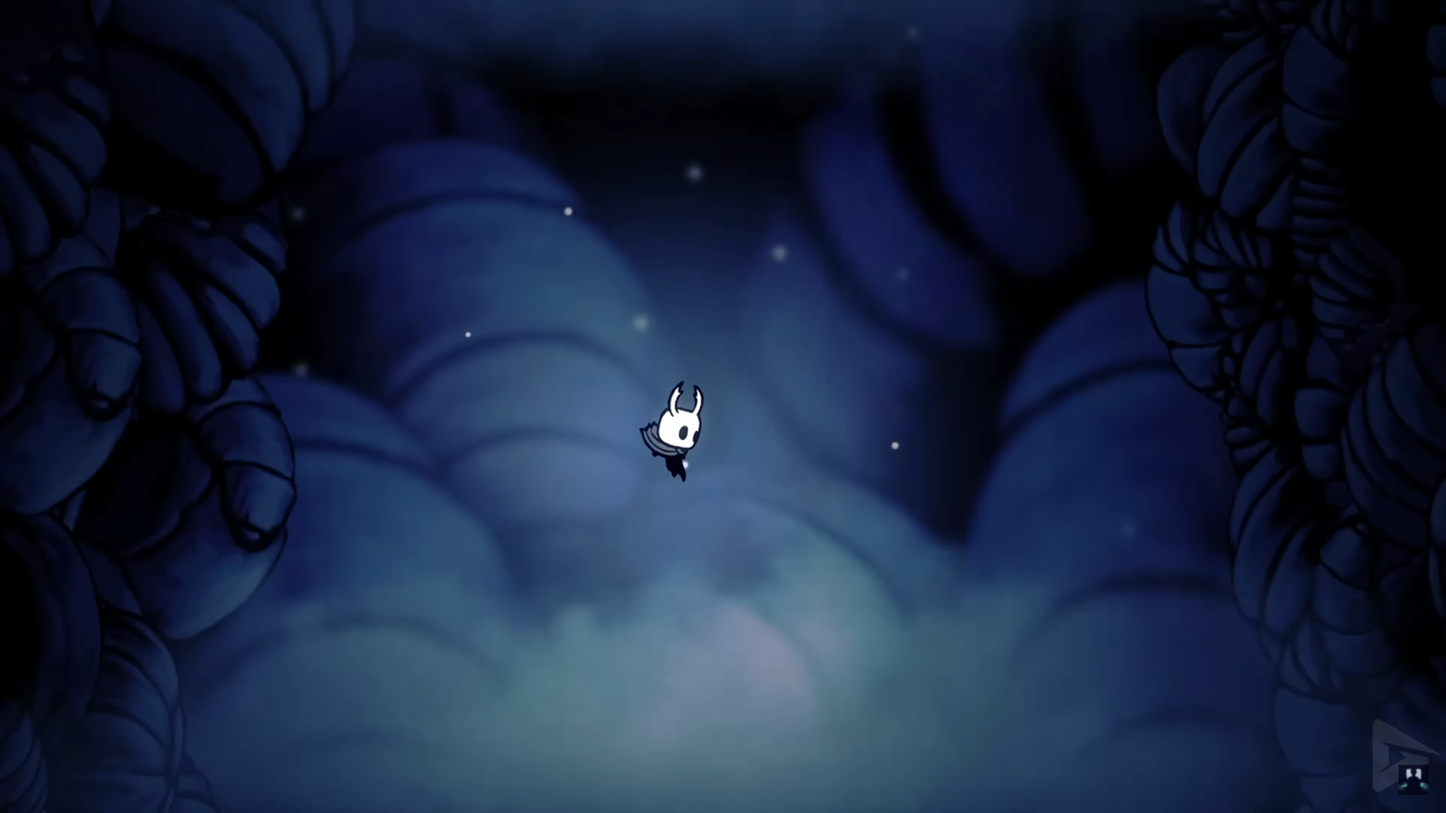HK: (643, 381, 709, 485)
